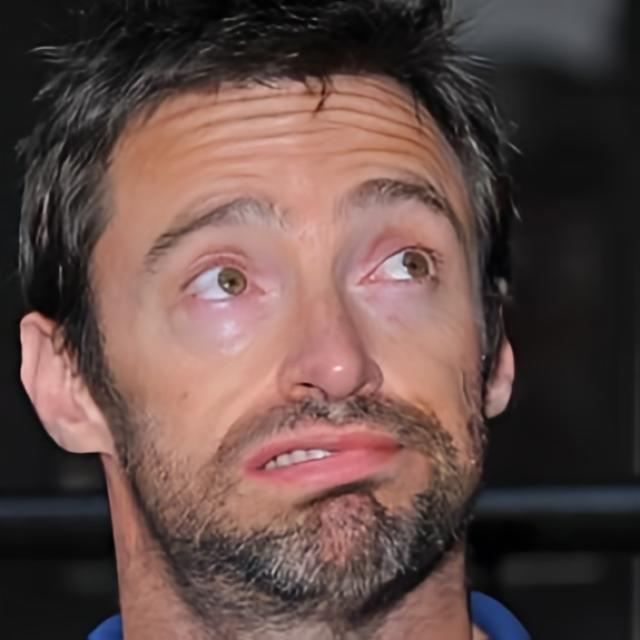surprise: (92, 67, 490, 620)
